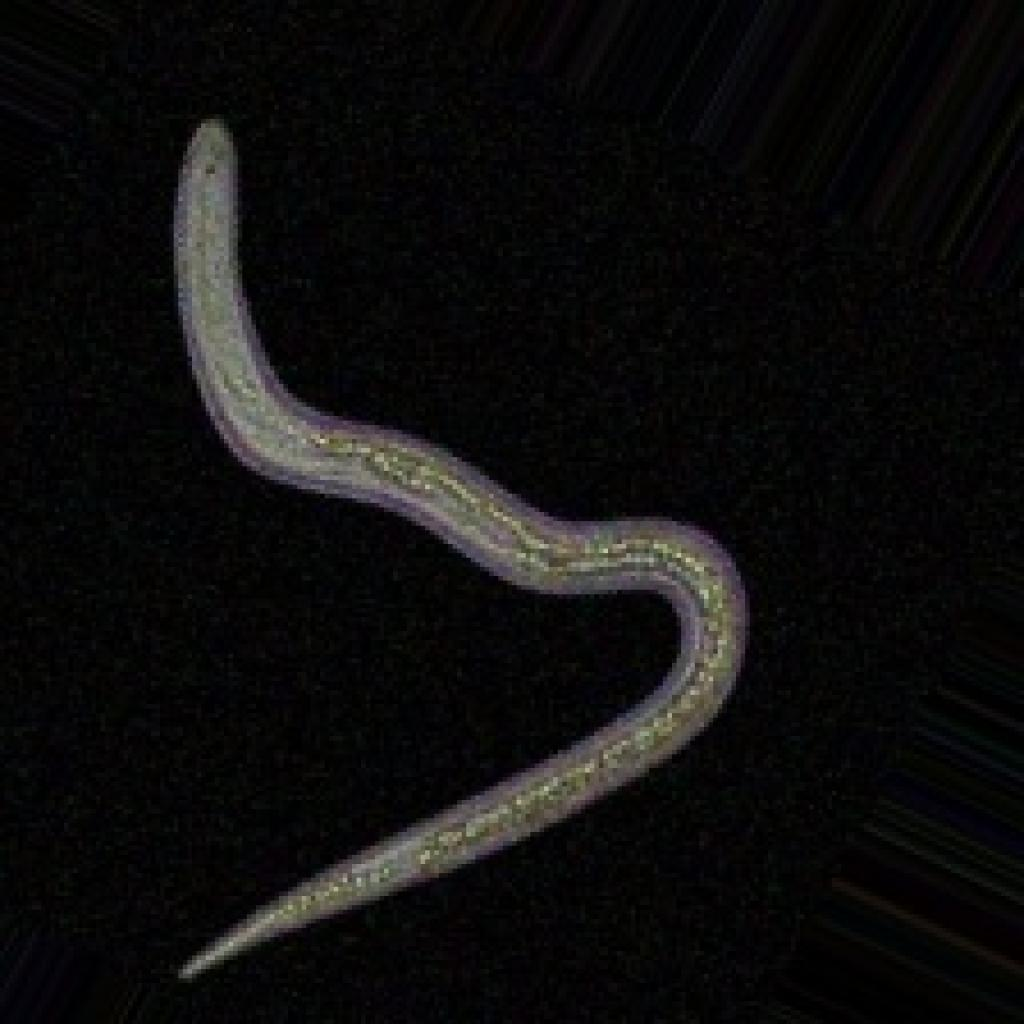Nematode: (160, 105, 754, 983)
